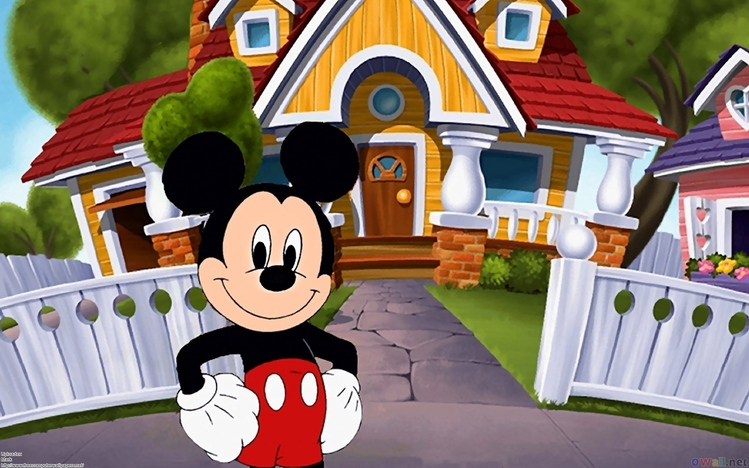Mickey: (158, 121, 361, 333)
